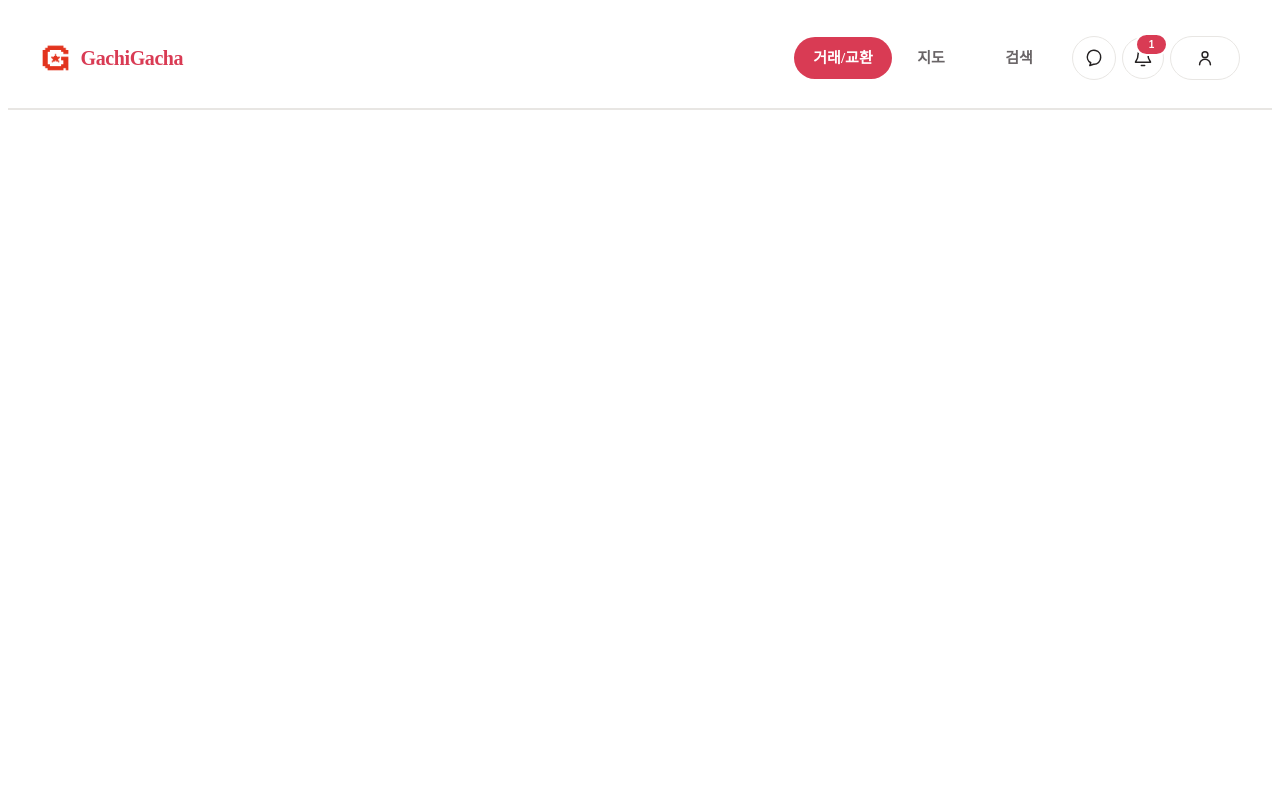
it: AppHeader › 알림 아이콘을 누르면 팝오버를 열고 다시 누르면 닫는다
The width and height of the screenshot is (1280, 800).
Click the button named "알림, 읽지 않은 알림 1개" at (1143, 58), box [1122,37,1164,79]
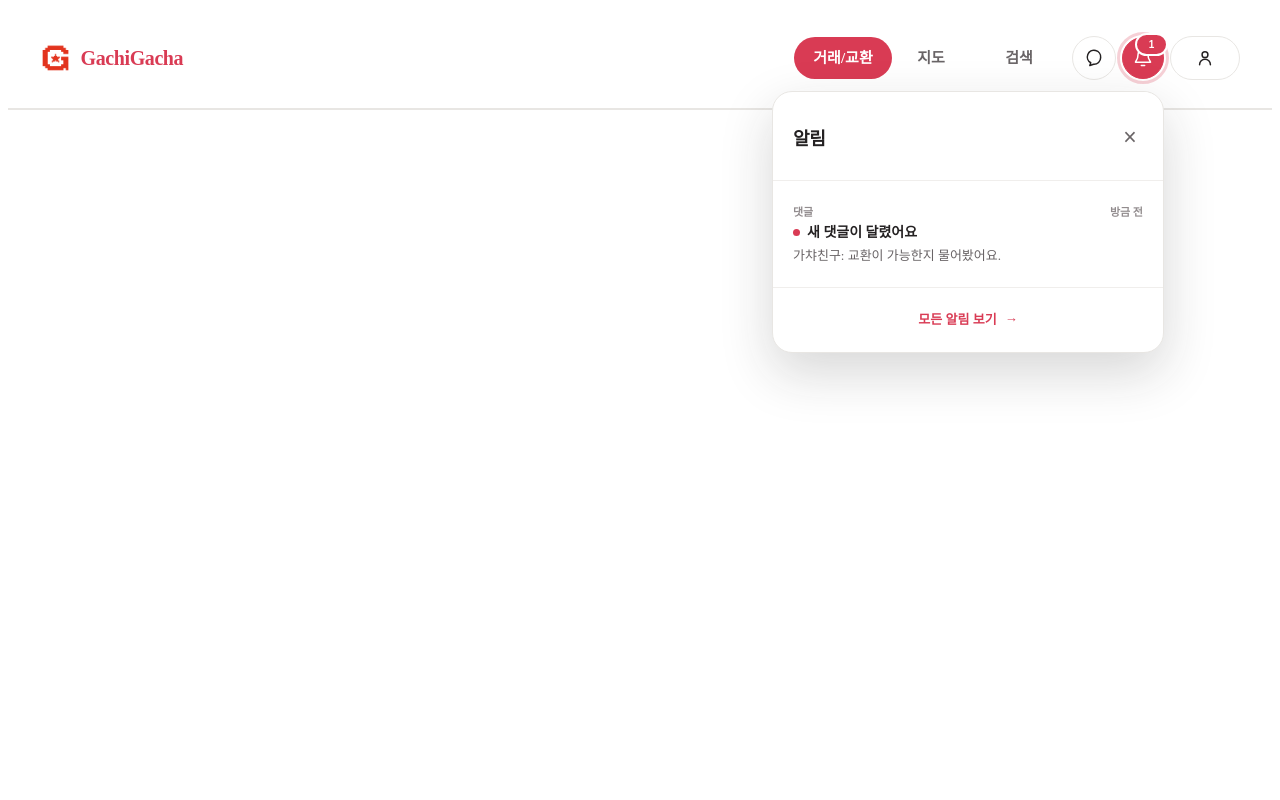
Check: the dialog "알림" is shown, box [772,91,1164,353]
Check: the button named "알림, 읽지 않은 알림 1개" is expanded
Click the button named "알림, 읽지 않은 알림 1개" at (1143, 58), box [1122,37,1164,79]
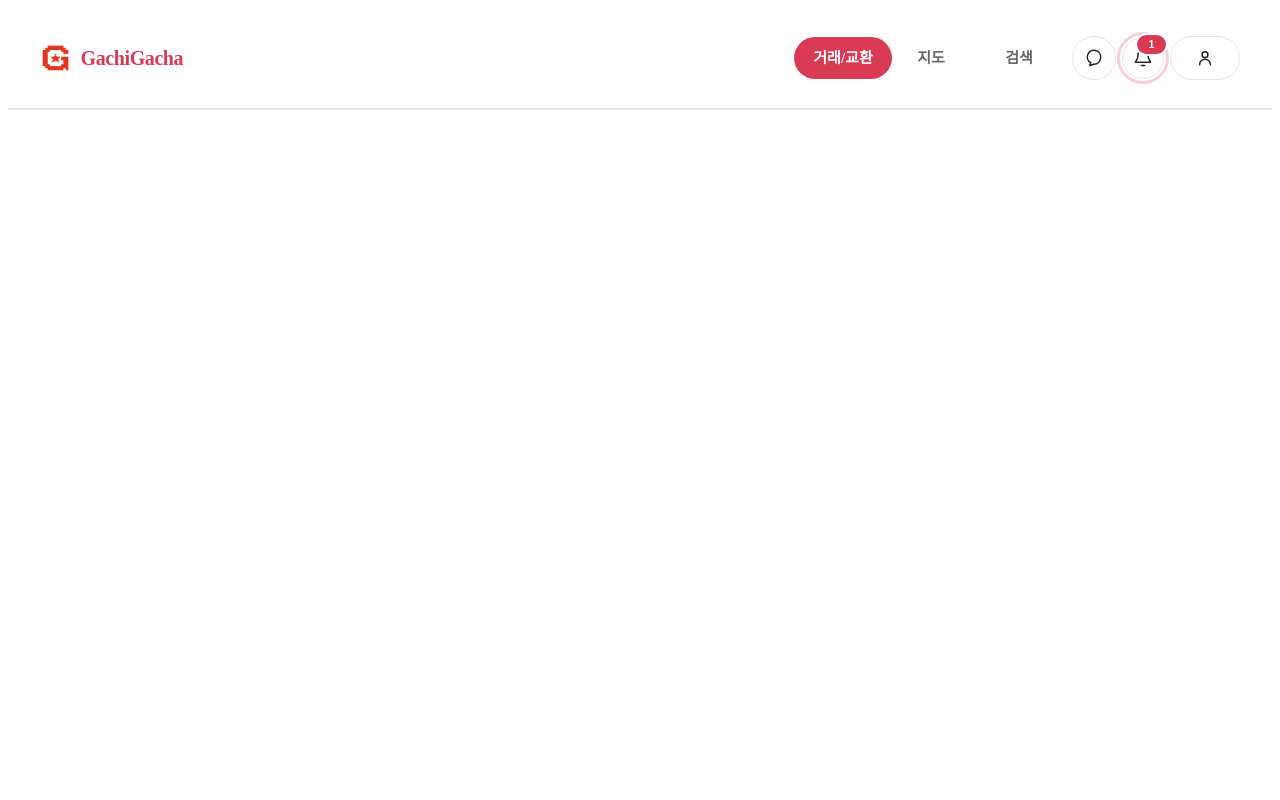
Check: the heading "알림" is gone
